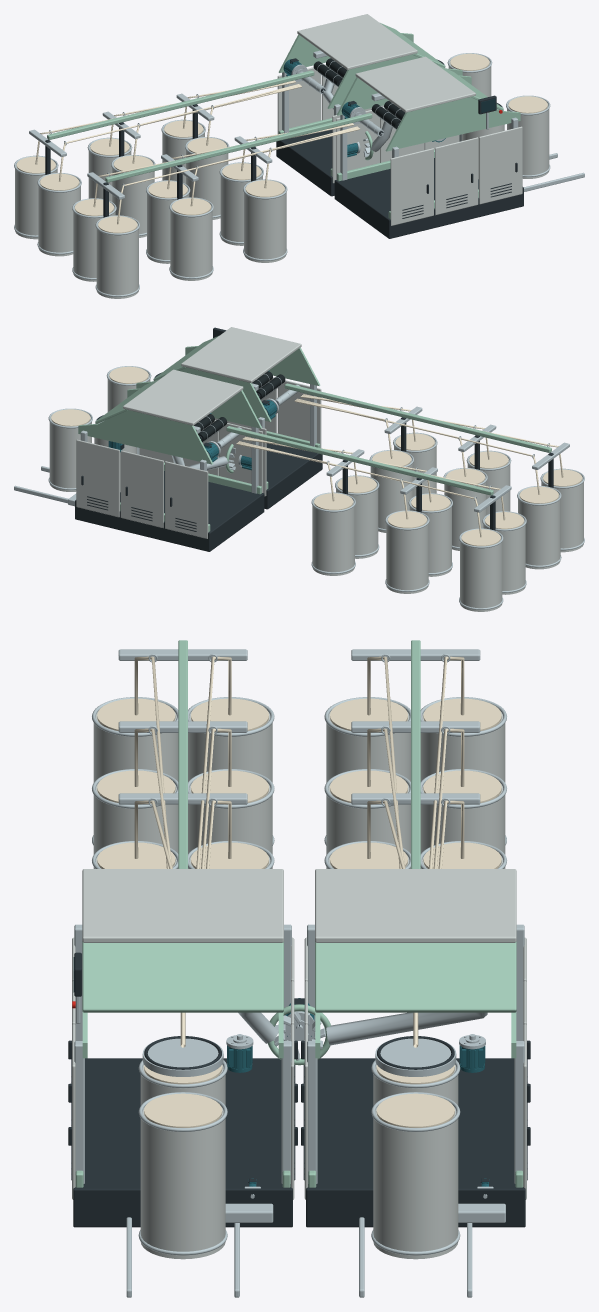
Rendered from rieter_rsb_d27.glb.
The picture shows the model from 3 angles, top to bottom: view 1: azimuth 30°, elevation 25°; view 2: azimuth 150°, elevation 25°; view 3: azimuth 270°, elevation 25°; orthographic projection. The views are drawn at different scales.
Visible parts, largest first — view 1: draft_base, draft_top, draft_top.001, draft_profile, service_hatch.002, service_hatch.001, service_hatch, can_body, can_body.004, can_body.002, can_body.008, draft_base.001 (+36 smaller); view 2: draft_base.001, draft_top.001, draft_top, draft_profile.003, service_hatch.011, service_hatch.010, service_hatch.009, can_body.009, can_body.013, can_body.011, can_body.001, draft_base (+34 smaller); view 3: draft_base, draft_base.001, draft_top, draft_top.001, angled_hood, angled_hood.001, can_body.007, can_body.015, can_body.009, can_body, can_body.001, can_body.008 (+43 smaller).
Boxes of the visible parts, left/top/right/bottom form: draft_base: left=334, top=158, right=523, bottom=238; draft_top: left=355, top=56, right=475, bottom=112; draft_top.001: left=297, top=14, right=417, bottom=70; draft_profile: left=385, top=97, right=520, bottom=151; service_hatch.002: left=479, top=126, right=522, bottom=204; service_hatch.001: left=435, top=137, right=478, bottom=215; service_hatch: left=390, top=148, right=433, bottom=225; can_body: left=96, top=223, right=138, bottom=298; can_body.004: left=244, top=187, right=286, bottom=262; can_body.002: left=170, top=205, right=212, bottom=280; can_body.008: left=38, top=181, right=80, bottom=256; draft_base.001: left=276, top=130, right=334, bottom=196; draft_base.001: left=75, top=471, right=264, bottom=551; draft_top.001: left=123, top=369, right=243, bottom=425; draft_top: left=181, top=327, right=301, bottom=383; draft_profile.003: left=78, top=410, right=213, bottom=464; service_hatch.011: left=76, top=439, right=119, bottom=517; service_hatch.010: left=120, top=450, right=163, bottom=528; service_hatch.009: left=165, top=461, right=208, bottom=538; can_body.009: left=460, top=536, right=502, bottom=611; can_body.013: left=312, top=500, right=354, bottom=575; can_body.011: left=386, top=518, right=428, bottom=593; can_body.001: left=518, top=494, right=560, bottom=569; draft_base: left=264, top=441, right=322, bottom=509; draft_base: left=73, top=1058, right=292, bottom=1227; draft_base.001: left=306, top=1058, right=525, bottom=1227; draft_top: left=82, top=869, right=283, bottom=942; draft_top.001: left=315, top=869, right=516, bottom=942; angled_hood: left=82, top=941, right=283, bottom=1012; angled_hood.001: left=315, top=941, right=516, bottom=1012; can_body.007: left=140, top=1107, right=225, bottom=1259; can_body.015: left=373, top=1107, right=458, bottom=1259; can_body.009: left=420, top=712, right=505, bottom=782; can_body: left=93, top=712, right=178, bottom=782; can_body.001: left=188, top=712, right=272, bottom=782; can_body.008: left=326, top=712, right=410, bottom=782.
Size of the model in its own units: 7.88 by 1.94 by 3.26.
